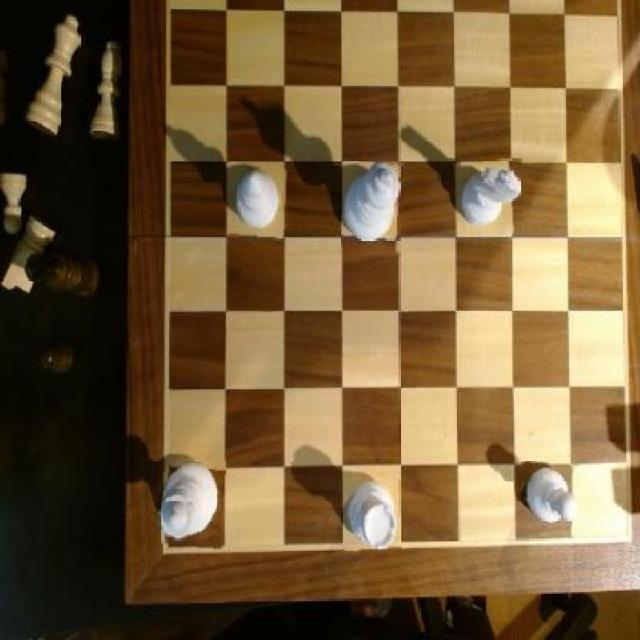black-rook: (229, 166, 287, 238)
white-bishop: (341, 158, 404, 251)
white-king: (460, 160, 526, 238)
white-knight: (520, 462, 580, 536)
white-pawn: (160, 456, 226, 548)
white-queen: (344, 480, 400, 554)
